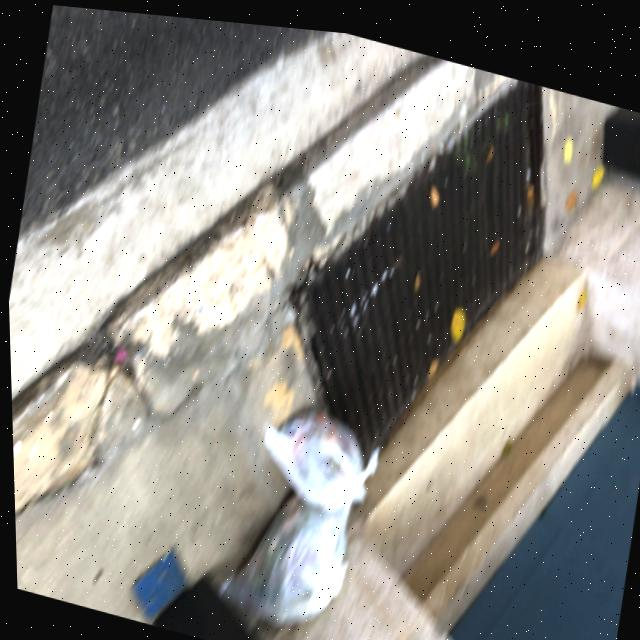Organic Waste -White Bag-: (212, 476, 354, 635), (251, 393, 382, 516)
